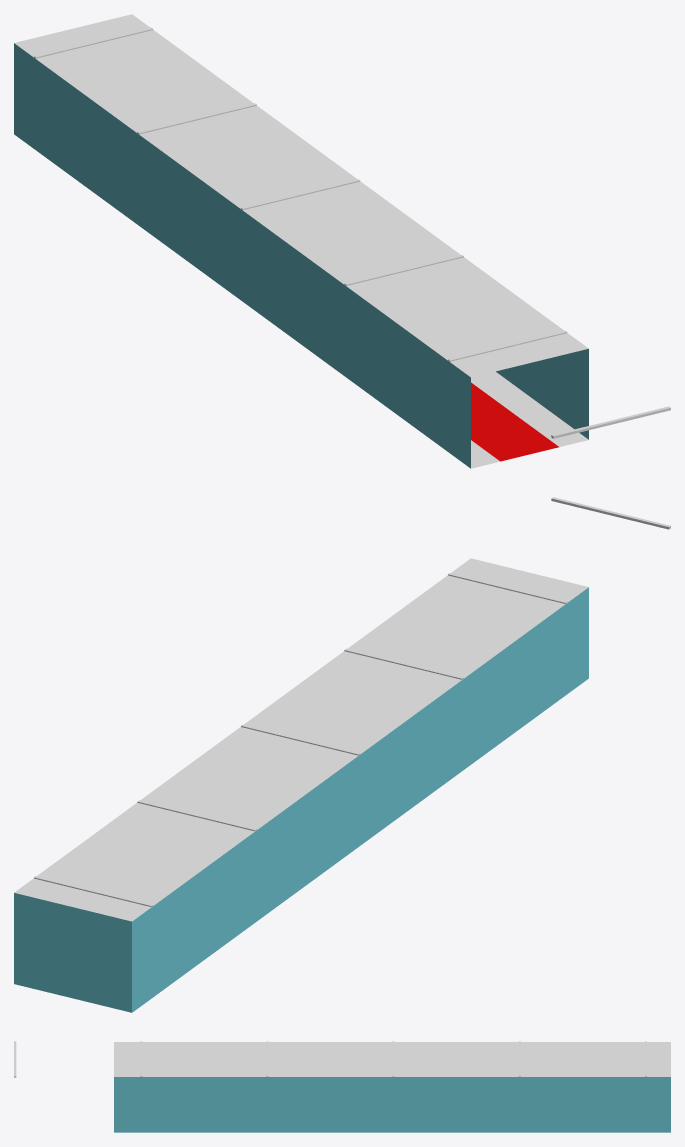
File: COULOIR.glb
3 views of the same model, one above another, from view 1: azimuth 30°, elevation 25°; view 2: azimuth 150°, elevation 25°; view 3: azimuth 270°, elevation 25° (orthographic). The views are drawn at different scales.
Parts seen in each view (by area): view 1: Cube, light; view 2: Cube, light; view 3: Cube, light.
Part boxes in pixels (x1=…): Cube: x1=14, y1=14, x2=588, y2=468; light: x1=34, y1=27, x2=670, y2=438; Cube: x1=14, y1=558, x2=588, y2=1012; light: x1=34, y1=497, x2=670, y2=906; Cube: x1=114, y1=1042, x2=670, y2=1132; light: x1=14, y1=1041, x2=646, y2=1077.
Bounding box in the file's own units: 8.51 × 6.36 × 67.3.
